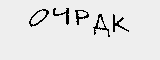Д: (91, 13, 111, 36)
К: (111, 14, 128, 35)
О: (27, 7, 49, 28)
Р: (73, 7, 88, 29)
Ч: (49, 5, 72, 27)
